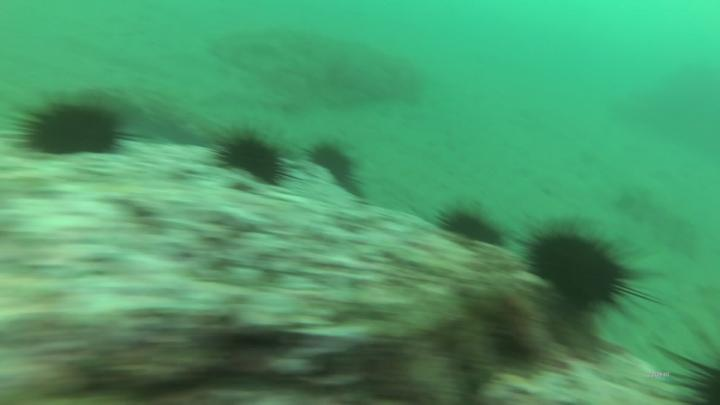echinus: (524, 224, 629, 334), (16, 101, 128, 160), (216, 131, 286, 189), (305, 137, 366, 191), (440, 210, 505, 252)
